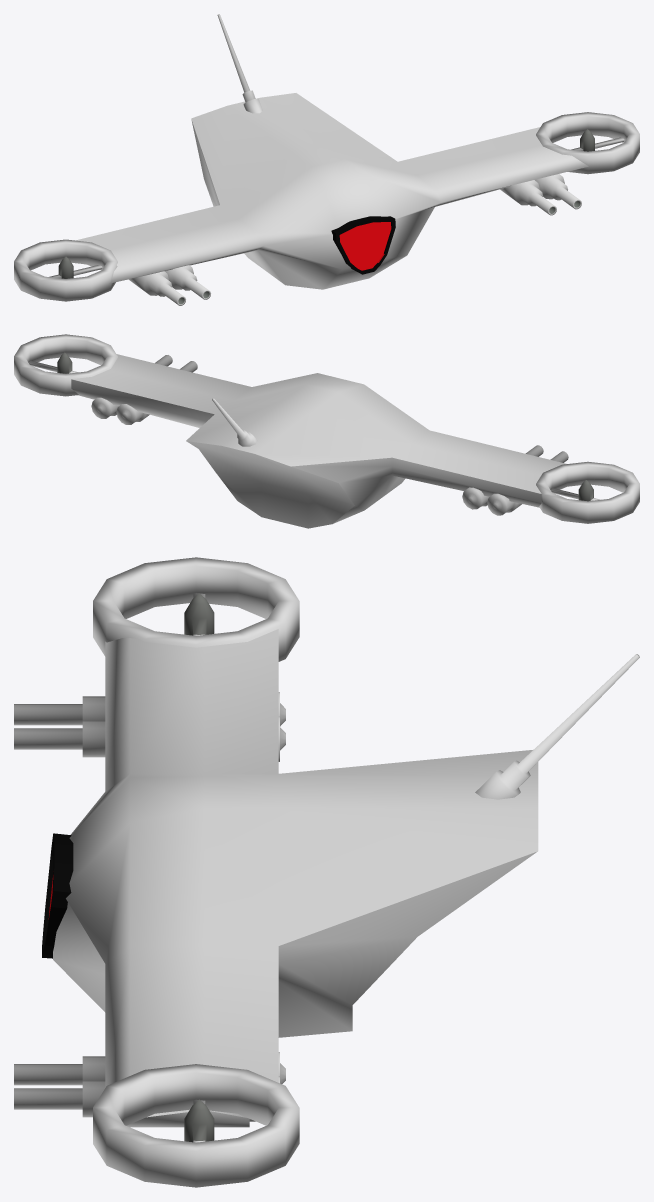
Rendered from Inimigo2.fbx.
The picture shows the model from 3 angles, top to bottom: view 1: azimuth 30°, elevation 25°; view 2: azimuth 150°, elevation 25°; view 3: azimuth 270°, elevation 25°; orthographic projection. The views are drawn at different scales.
Visible parts, largest first — view 1: CarcaçaInimigo2; view 2: CarcaçaInimigo2; view 3: CarcaçaInimigo2.
Part boxes in pixels (x1,y1,x2,y2): CarcaçaInimigo2: (14,14,639,305); CarcaçaInimigo2: (14,334,639,528); CarcaçaInimigo2: (14,557,639,1187).
Size of the model in its own units: 825 by 228 by 367.
